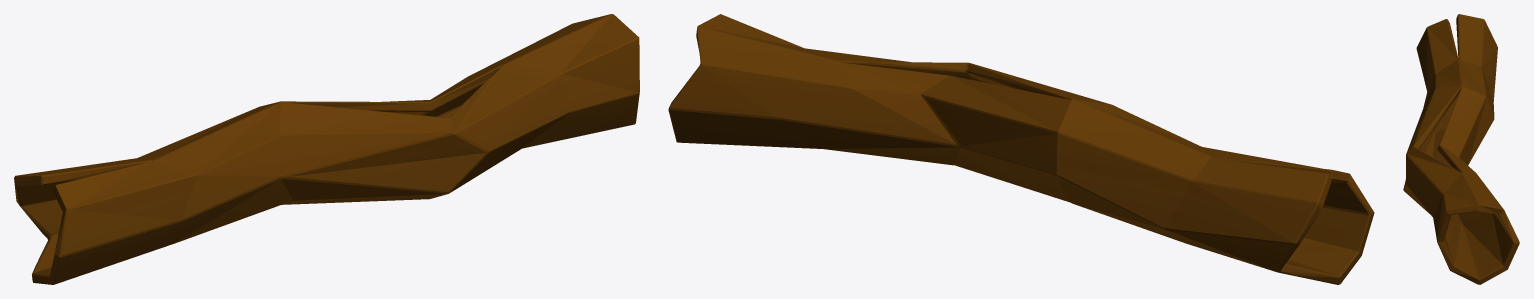
The model's file is log_plain.glb.
The picture shows the model from 3 angles, left to right: view 1: azimuth 30°, elevation 25°; view 2: azimuth 150°, elevation 25°; view 3: azimuth 270°, elevation 25°; orthographic projection. The views are drawn at different scales.
Visible parts, largest first — view 1: Wooden Log_1_1_A; view 2: Wooden Log_1_1_A; view 3: Wooden Log_1_1_A.
Part boxes in pixels (x1,y1,x2,y2): Wooden Log_1_1_A: (14, 14, 639, 284); Wooden Log_1_1_A: (668, 14, 1374, 284); Wooden Log_1_1_A: (1403, 14, 1519, 284).
Size of the model in its own units: 1.8 by 0.33 by 0.43.
Materials: 1 (1 with a texture image).
